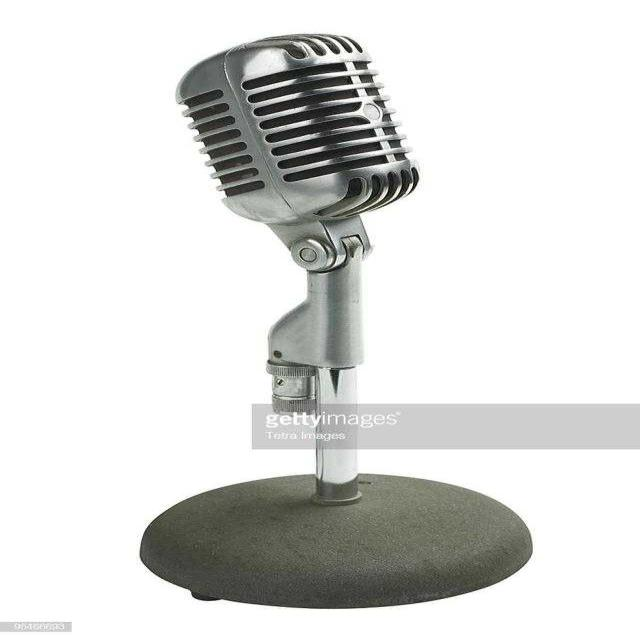microphone: (173, 33, 417, 235)
